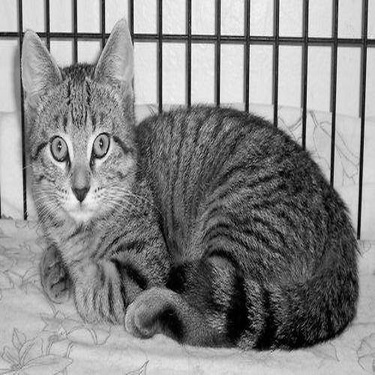cat: (1, 25, 337, 326)
